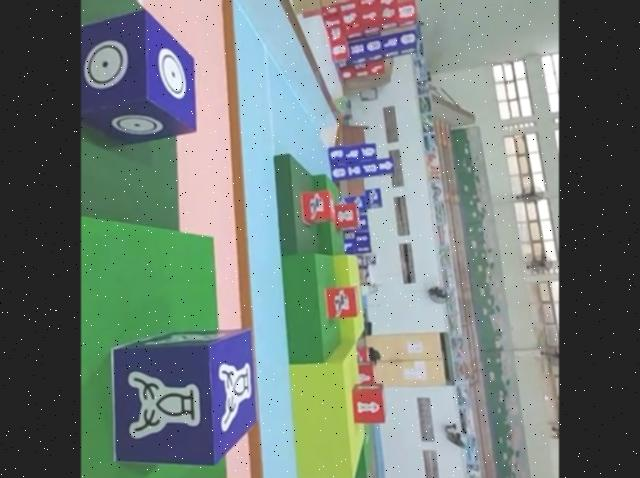R2 Real Blue: (111, 327, 259, 464), (81, 12, 198, 145)
